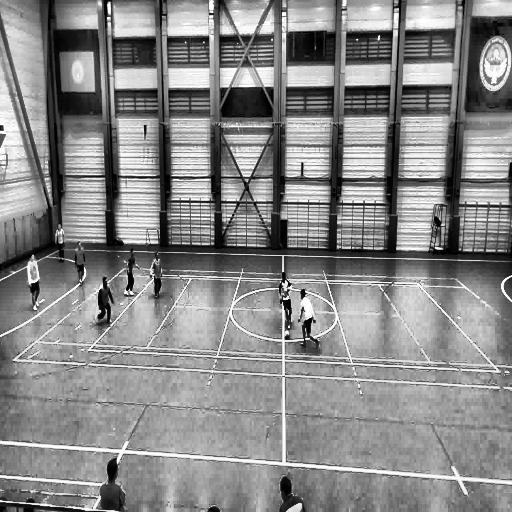ball: (283, 330, 291, 342)
player: (298, 289, 318, 349), (278, 271, 292, 338), (97, 275, 114, 326), (26, 253, 40, 312), (124, 248, 138, 295), (150, 251, 163, 299), (74, 241, 86, 285), (55, 222, 66, 261)
